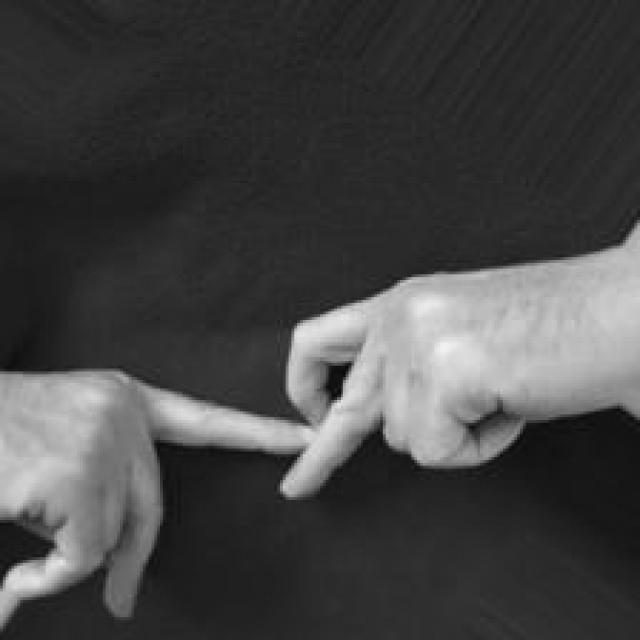R: (0, 263, 534, 640)
